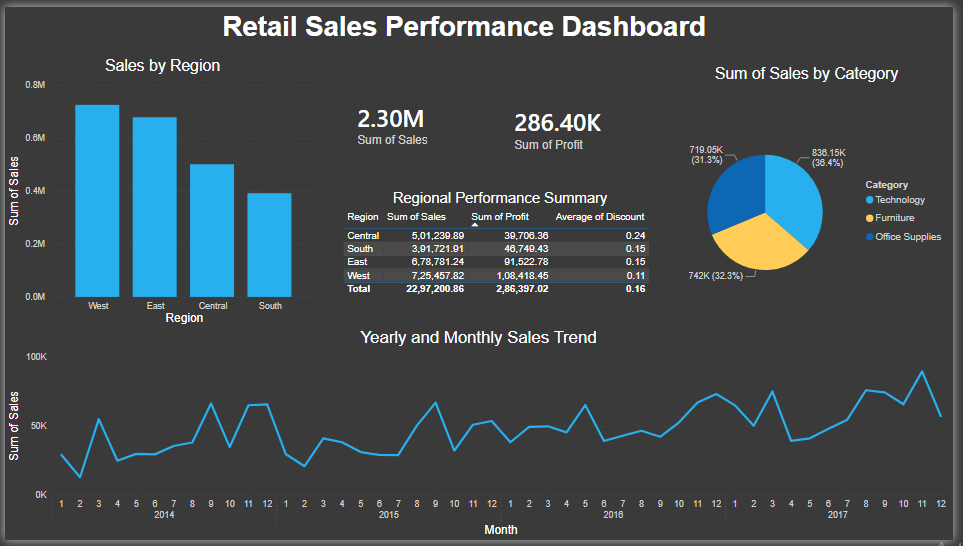

The dashboard page shown, as its layout file describes it:
{"tool":"powerbi","page":{"name":"Page 1","canvas":[1280,720],"ordinal":0},"visuals":[{"type":"cardVisual","fields":{"Data":["Sum(public sales.Sales)"]},"box":[445.9,63.5,212.2,187.8],"z":0},{"type":"cardVisual","fields":{"Data":["Sum(public sales.Profit)"]},"box":[658.1,67.6,228.4,190.5],"z":1000},{"type":"clusteredColumnChart","title":"Sales by Region","fields":{"Category":["public sales.Region"],"Y":["Sum(public sales.Sales)"]},"box":[0,67.6,425.7,366.2],"z":2000},{"type":"pieChart","fields":{"Category":["public sales.Category"],"Y":["Sum(public sales.Sales)"]},"box":[886.5,78.4,393.2,374.3],"z":3000},{"type":"tableEx","title":"Regional Performance Summary","fields":{"Values":["public sales.Region","Sum(public sales.Sales)","Sum(public sales.Profit)","Avg(public sales.Discount)"]},"box":[451.4,247.3,435.1,164.9],"z":4000},{"type":"lineChart","title":"Yearly and Monthly Sales Trend","fields":{"Category":["public sales.Year","public sales.Month"],"Y":["Sum(public sales.Sales)"]},"box":[0,432.4,1279.7,287.8],"z":5000},{"type":"textbox","box":[282.4,0,675.7,67.6],"z":5001}]}

Visuals, with their boxes in screenshot pixels (x1, y1, x2, y2), scaled from the page's 1280x720 canvas onto the 963x546 screenshot:
cardVisual - Sum(public sales.Sales): pyautogui.locateOnScreen(335, 48, 495, 191)
cardVisual - Sum(public sales.Profit): pyautogui.locateOnScreen(495, 51, 667, 196)
"Sales by Region" clusteredColumnChart: pyautogui.locateOnScreen(0, 51, 320, 329)
pieChart - public sales.Category x Sum(public sales.Sales): pyautogui.locateOnScreen(667, 59, 962, 343)
"Regional Performance Summary" tableEx: pyautogui.locateOnScreen(340, 188, 667, 313)
"Yearly and Monthly Sales Trend" lineChart: pyautogui.locateOnScreen(0, 328, 962, 545)
textbox: pyautogui.locateOnScreen(212, 0, 721, 51)
